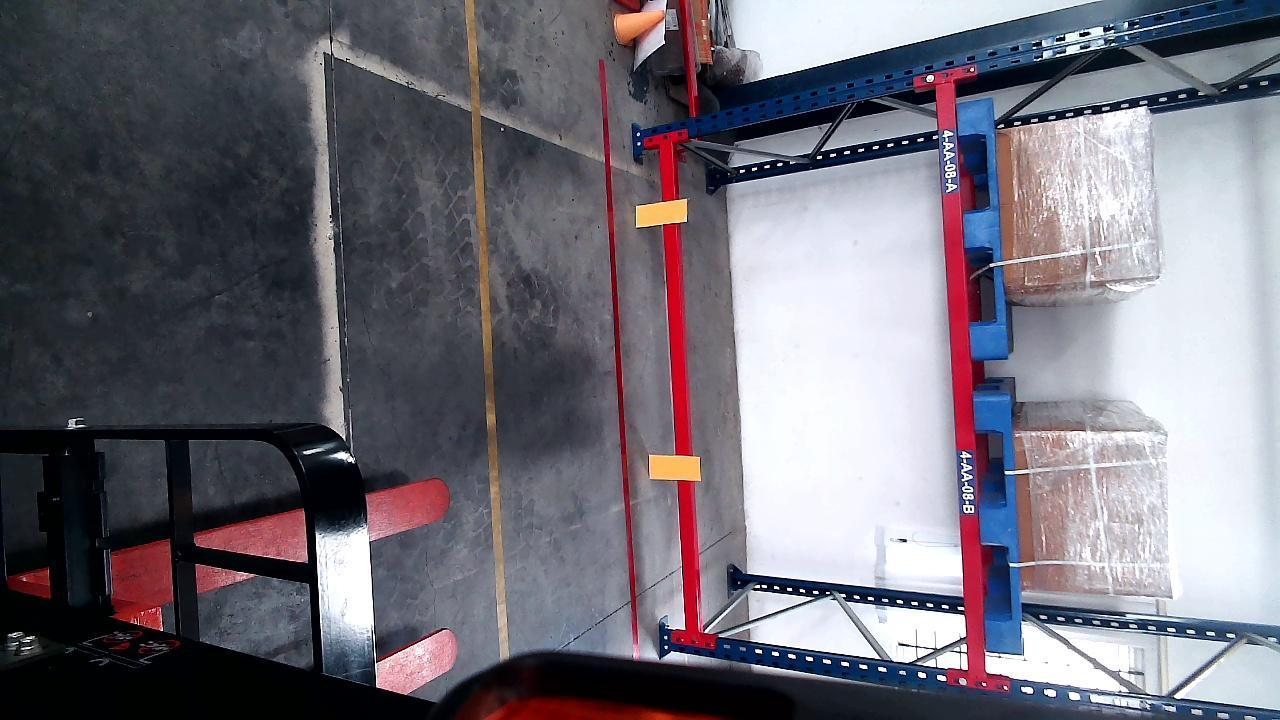h_rack: (936, 87, 986, 642), (662, 135, 695, 624)
orange_strip: (635, 198, 687, 227), (650, 454, 701, 479)
red_line: (598, 47, 643, 640)
small_pallet: (974, 392, 1021, 649), (959, 100, 1005, 353)
yellow_line: (466, 0, 510, 662)
